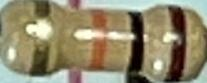Black: (128, 12, 143, 72)
Blue: (168, 6, 185, 80)
Orange: (89, 10, 107, 70)
Side-Gold: (29, 0, 50, 76)
